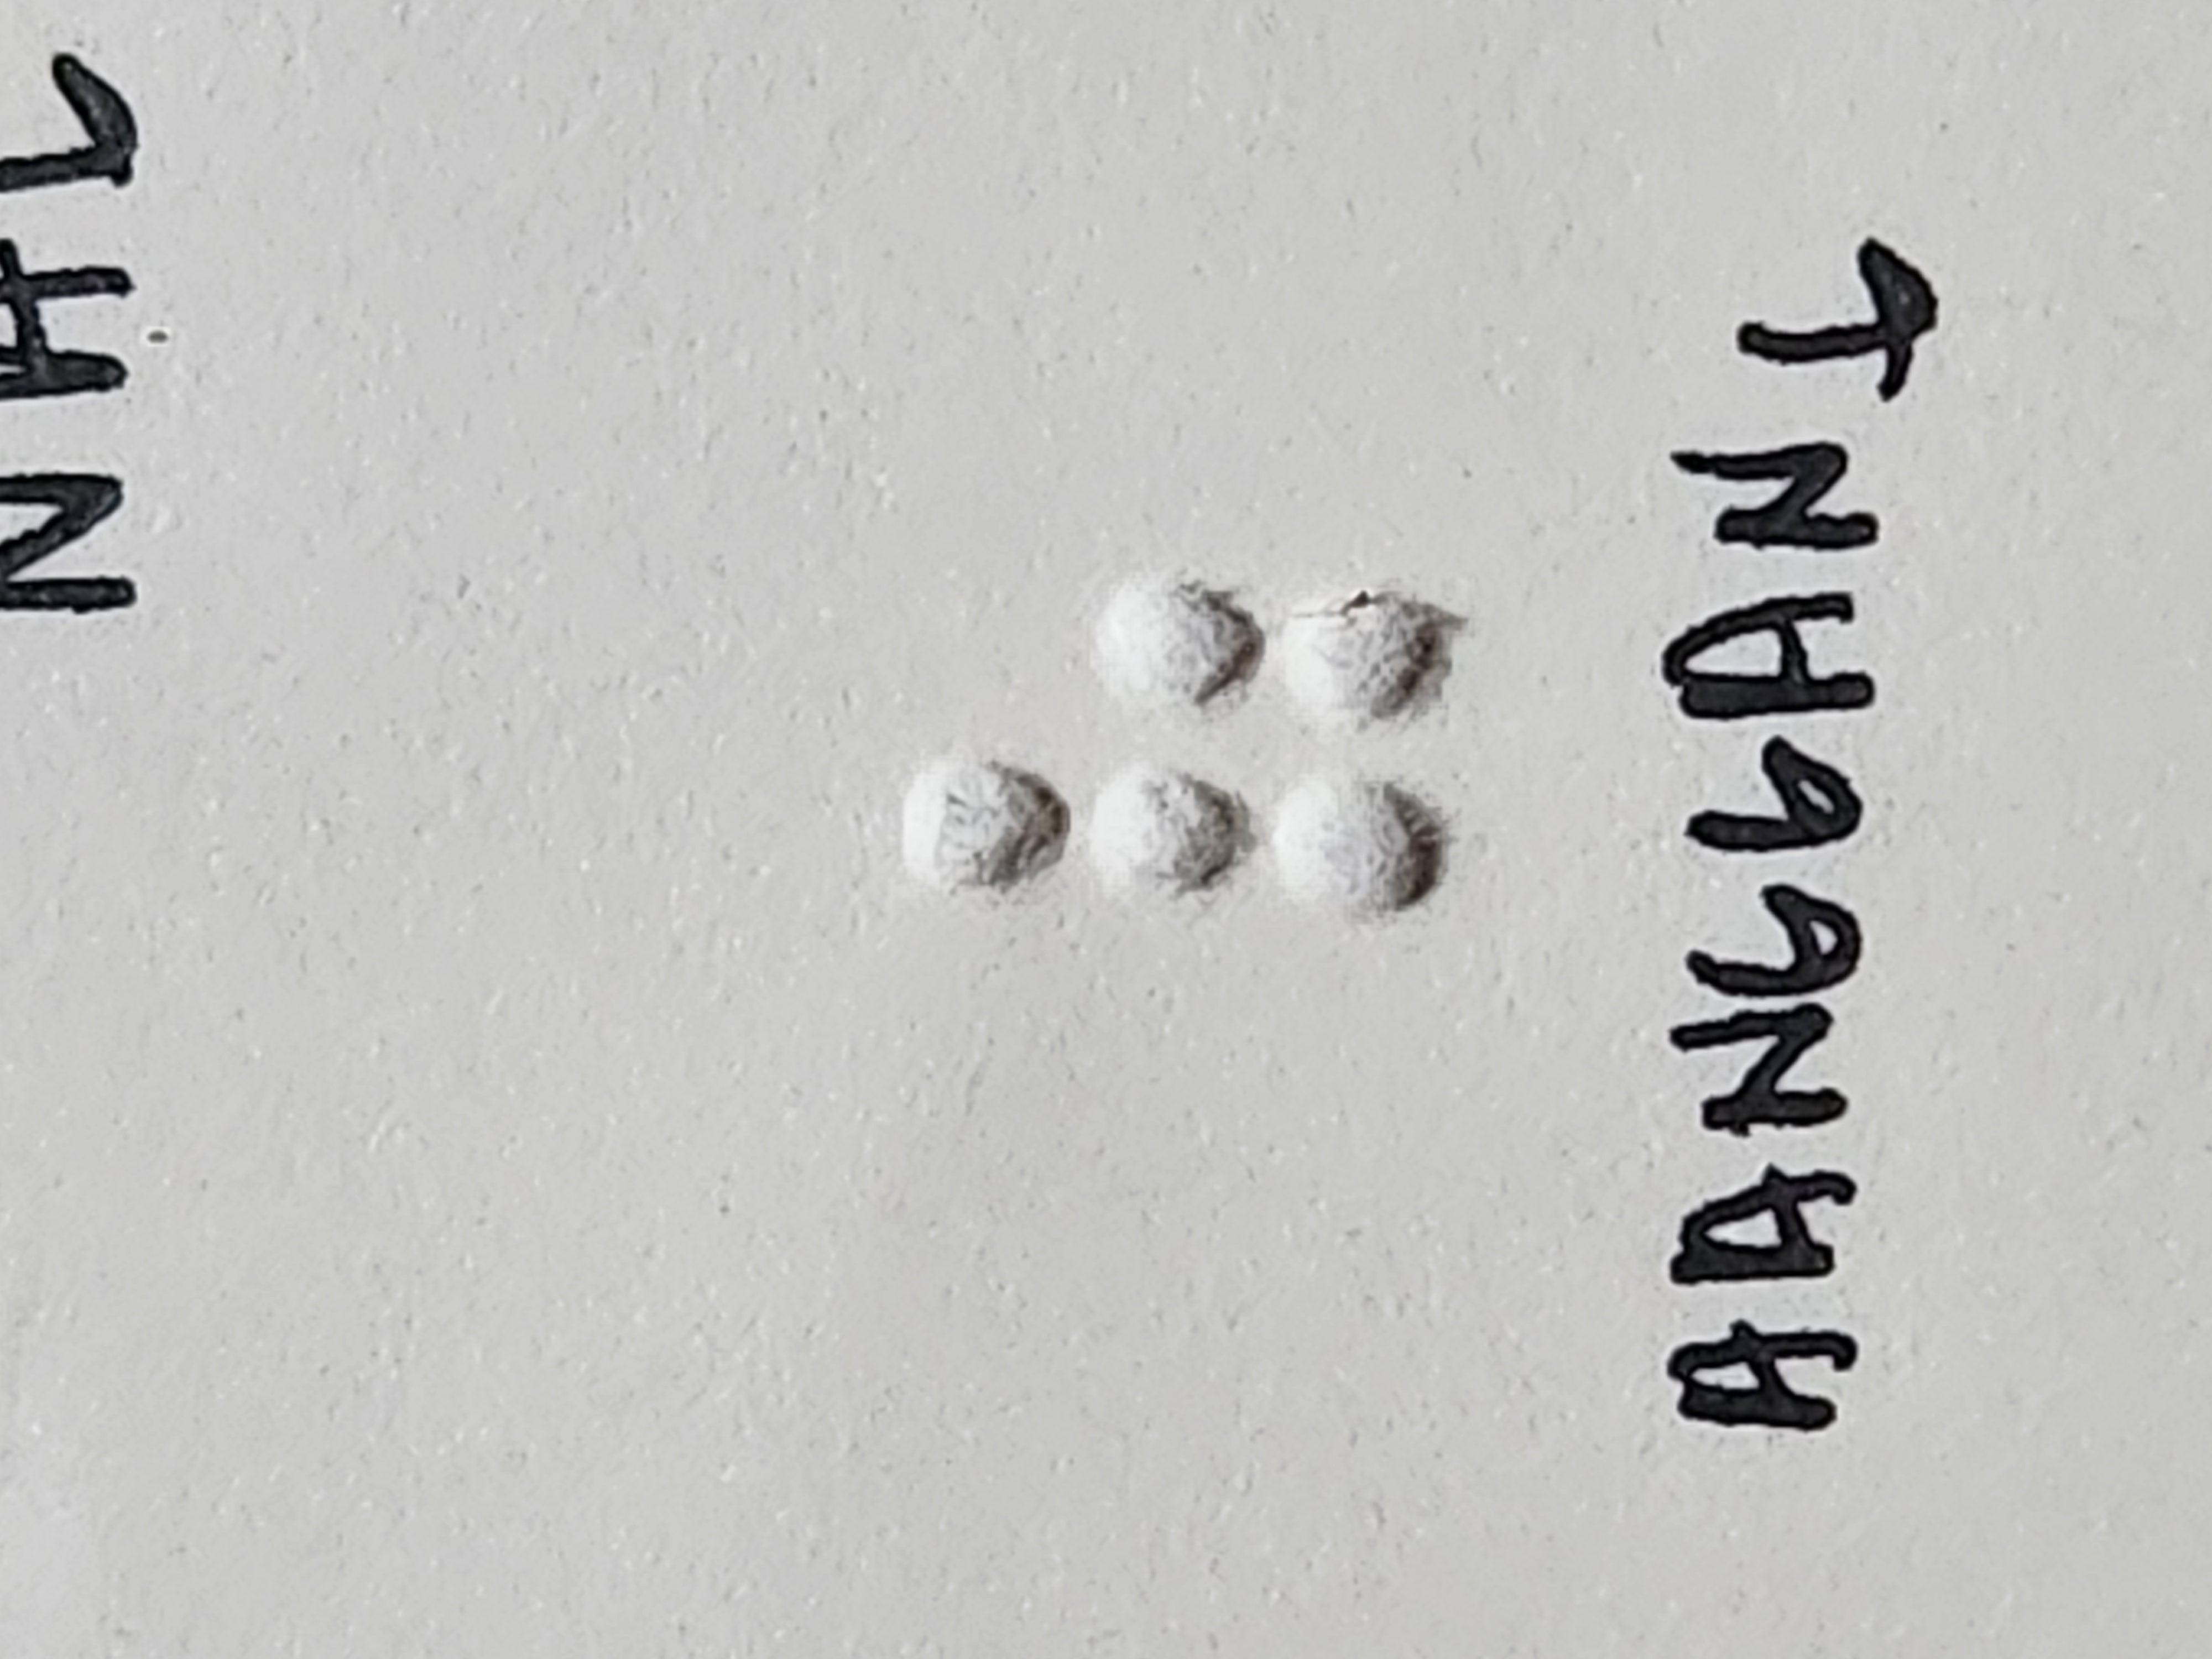one_cell_non_alphabet_hanggang: (1005, 673, 1440, 1094)
